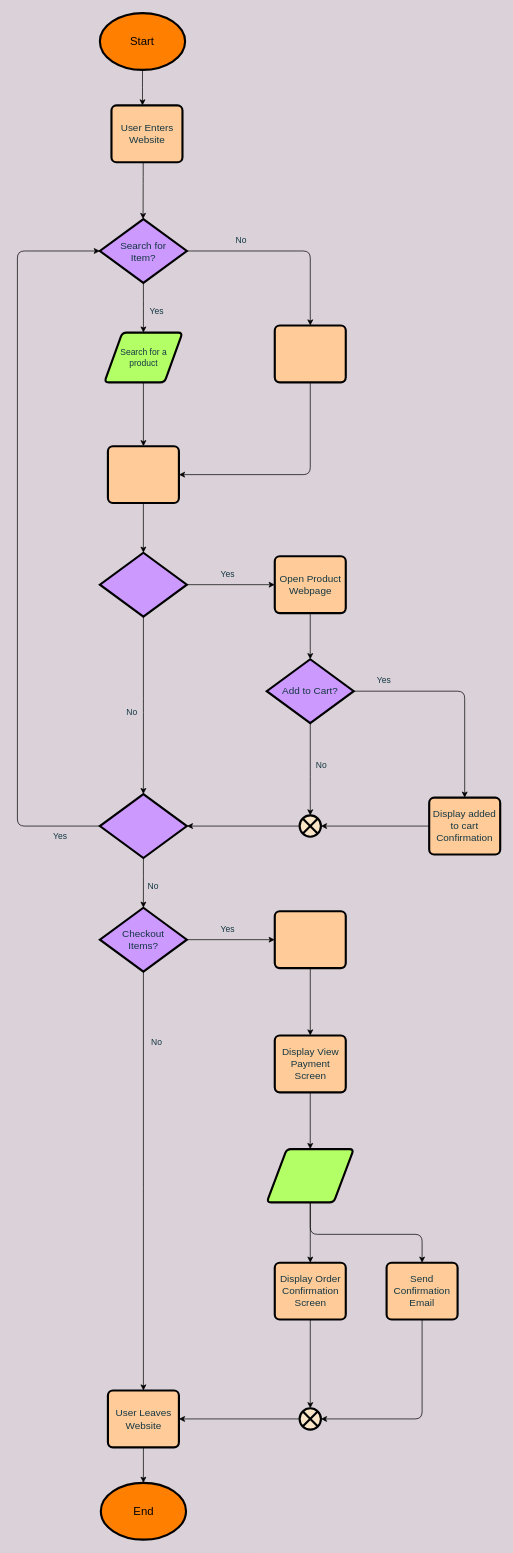
Image size: 513x1553. Some labels were removed from this diagram. Here are the shapes that lost their labels. From the top down, the centre of each, then its label:
At (309,353): "Browse Home Page".
At (143,474): "Begin Looking over Products".
At (143,584): "View Item?".
At (143,826): "Continue Shopping?".
At (309,939): "Display View Cart Screen".
At (309,1175): "Input Payment Information".
